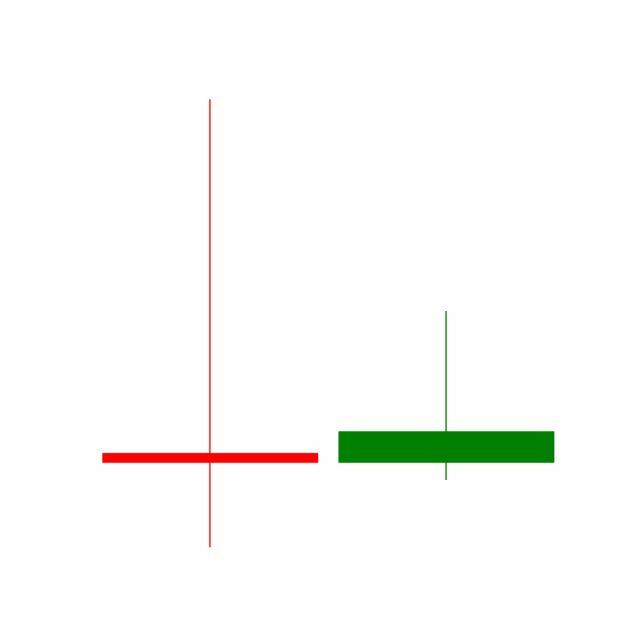Gravestone Doji: (328, 309, 566, 482)
